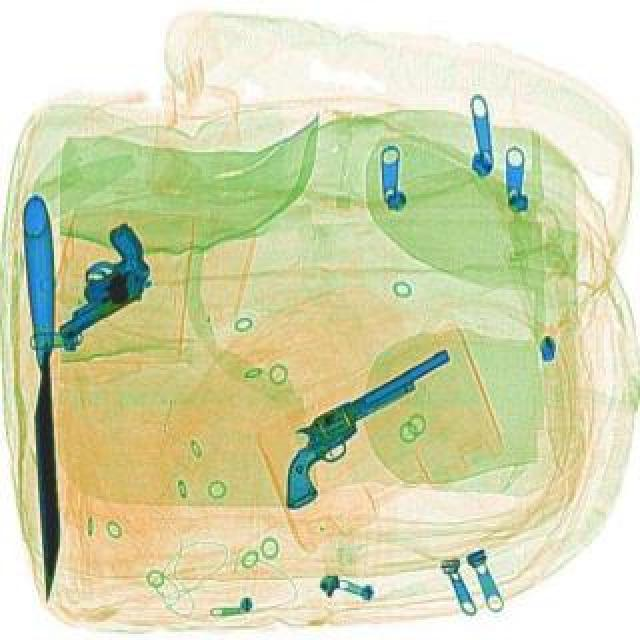gun: (248, 344, 484, 512), (22, 218, 170, 342)
knife: (22, 192, 62, 600)
